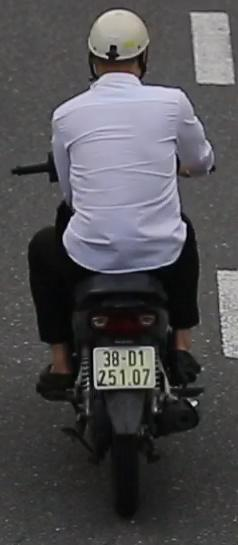LP: (91, 340, 159, 394)
helmet: (85, 7, 155, 99)
